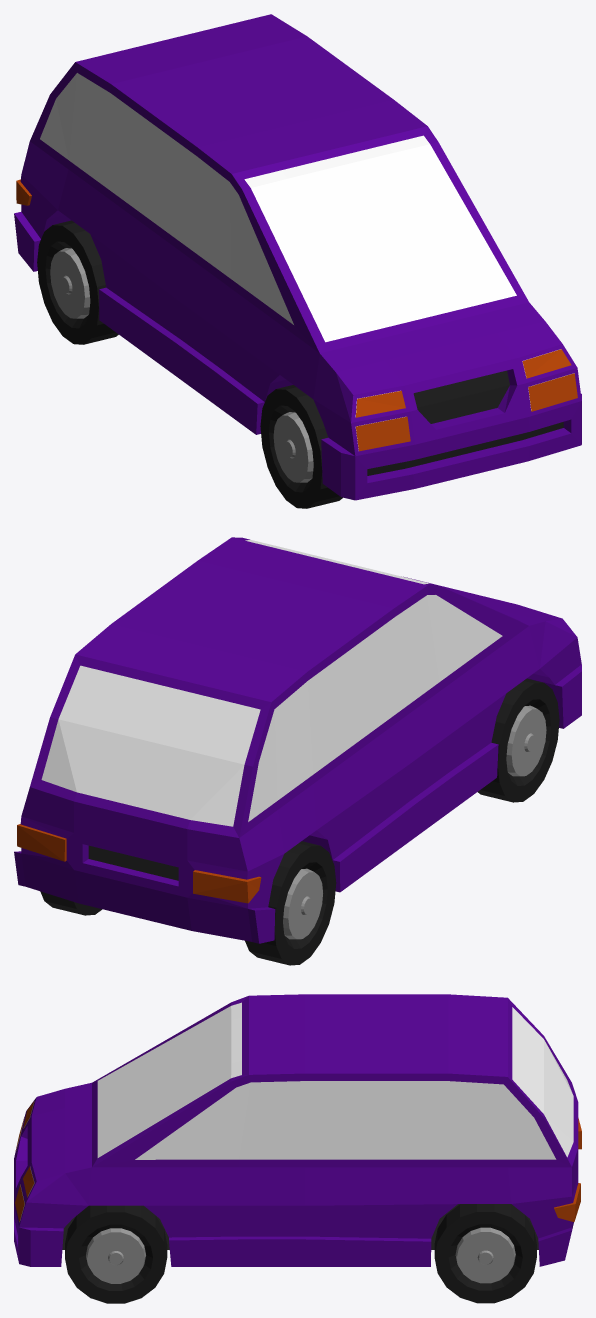
Rendered from PurpleCar.FBX.
The picture shows the model from 3 angles, top to bottom: view 1: azimuth 30°, elevation 25°; view 2: azimuth 150°, elevation 25°; view 3: azimuth 270°, elevation 25°; orthographic projection. The views are drawn at different scales.
Parts seen in each view (by area): view 1: Purple, Wheels, RightBlinker, LeftBlinker; view 2: Purple, Wheels, RightBlinker, LeftBlinker; view 3: Purple, Wheels, LeftBlinker.
Boxes of the visible parts, x1,y1,x2,y2 form: Purple: (14,14,581,500); Wheels: (37,220,342,508); RightBlinker: (16,179,410,451); LeftBlinker: (522,349,577,411); Purple: (14,537,581,943); Wheels: (40,678,559,965); RightBlinker: (193,870,261,903); LeftBlinker: (17,824,66,861); Purple: (14,994,578,1266); Wheels: (65,1204,536,1303); LeftBlinker: (15,1166,580,1221).
Size of the model in its own units: 161 by 170 by 394.
Materials: 2 (1 with a texture image).
